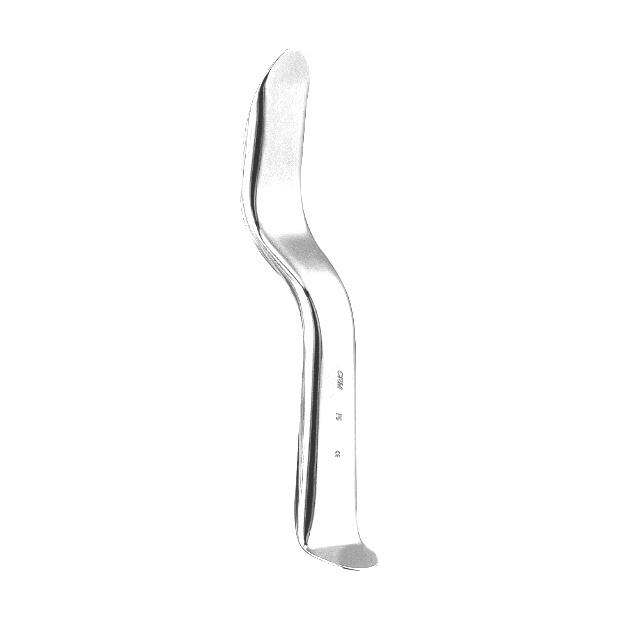separador: (237, 47, 381, 576)
